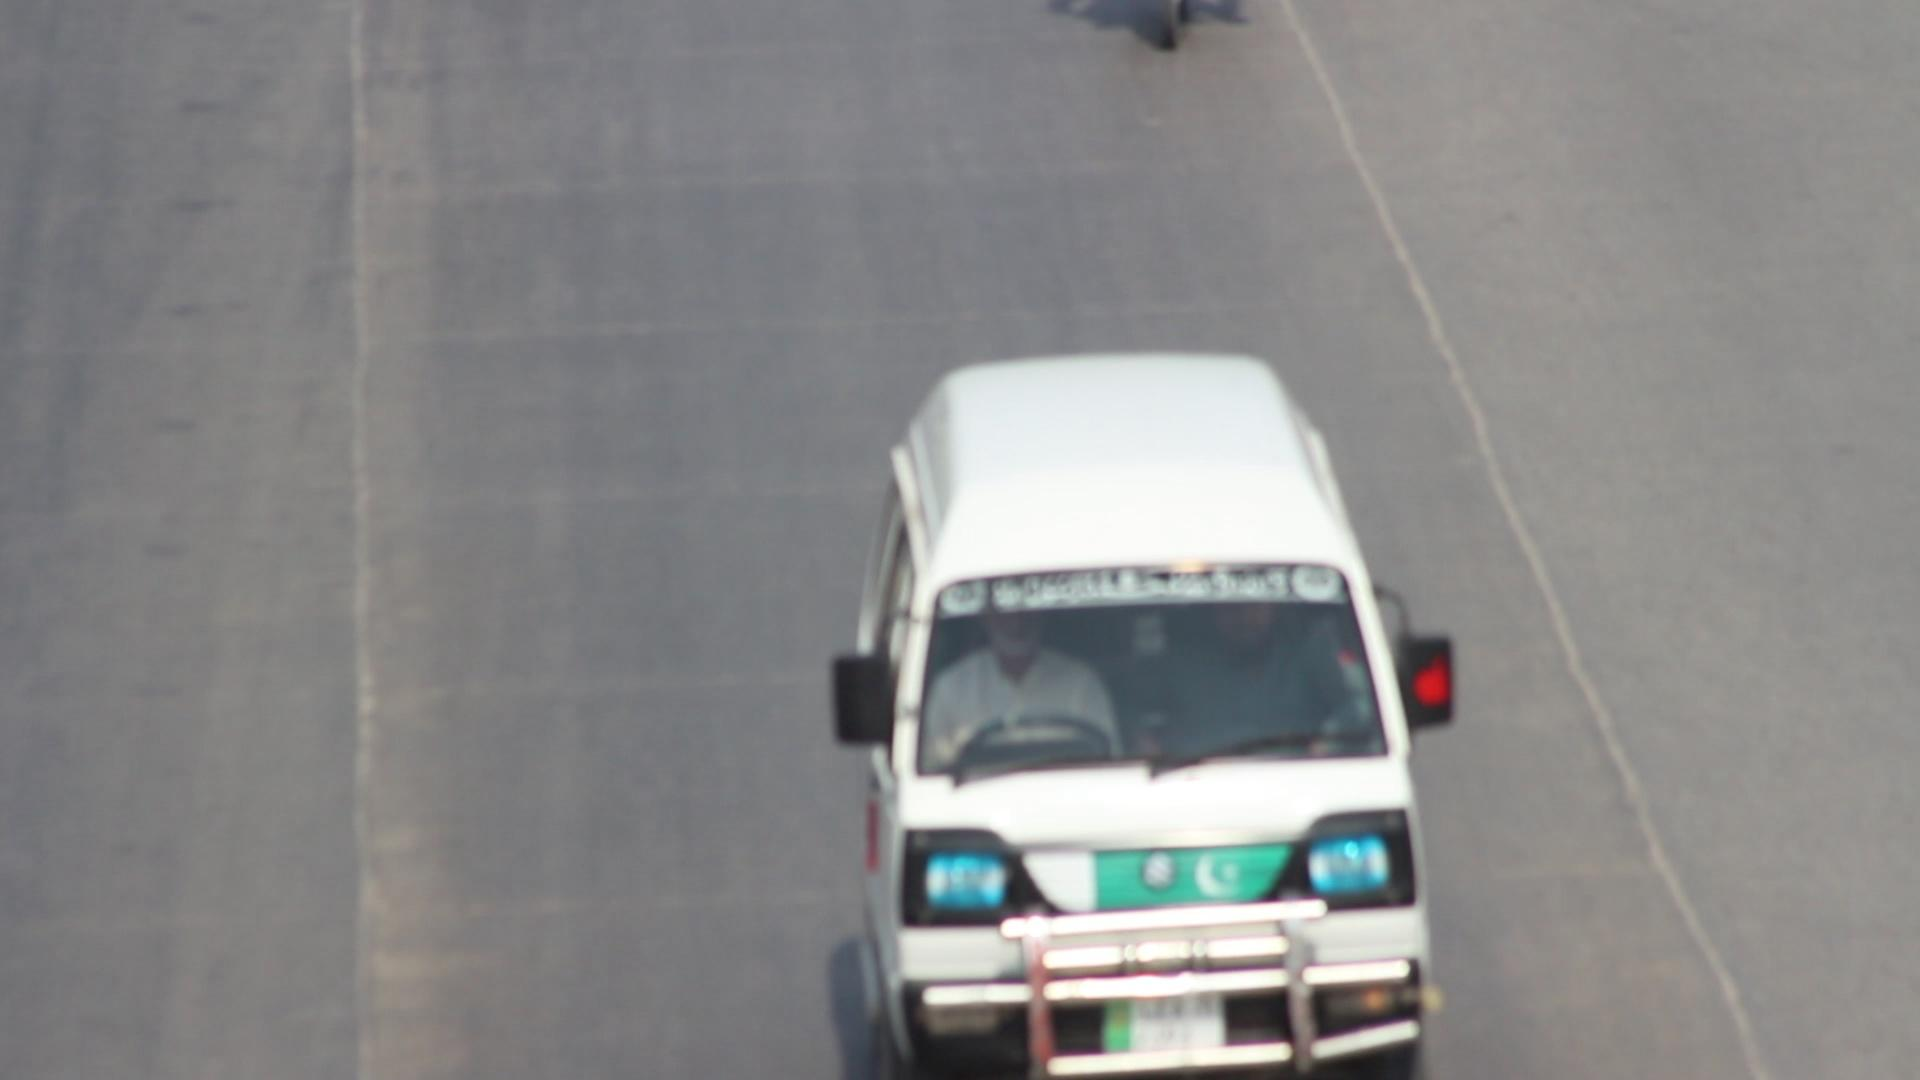windshield: (894, 543, 1411, 794)
